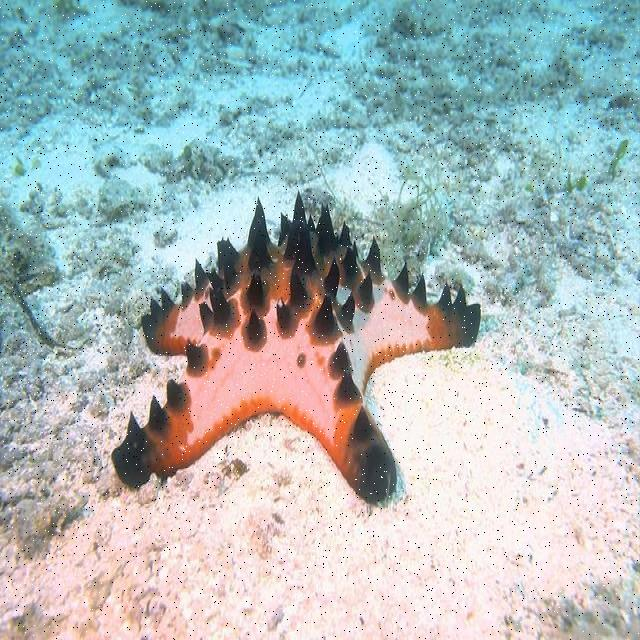reefs: (112, 189, 482, 505)
